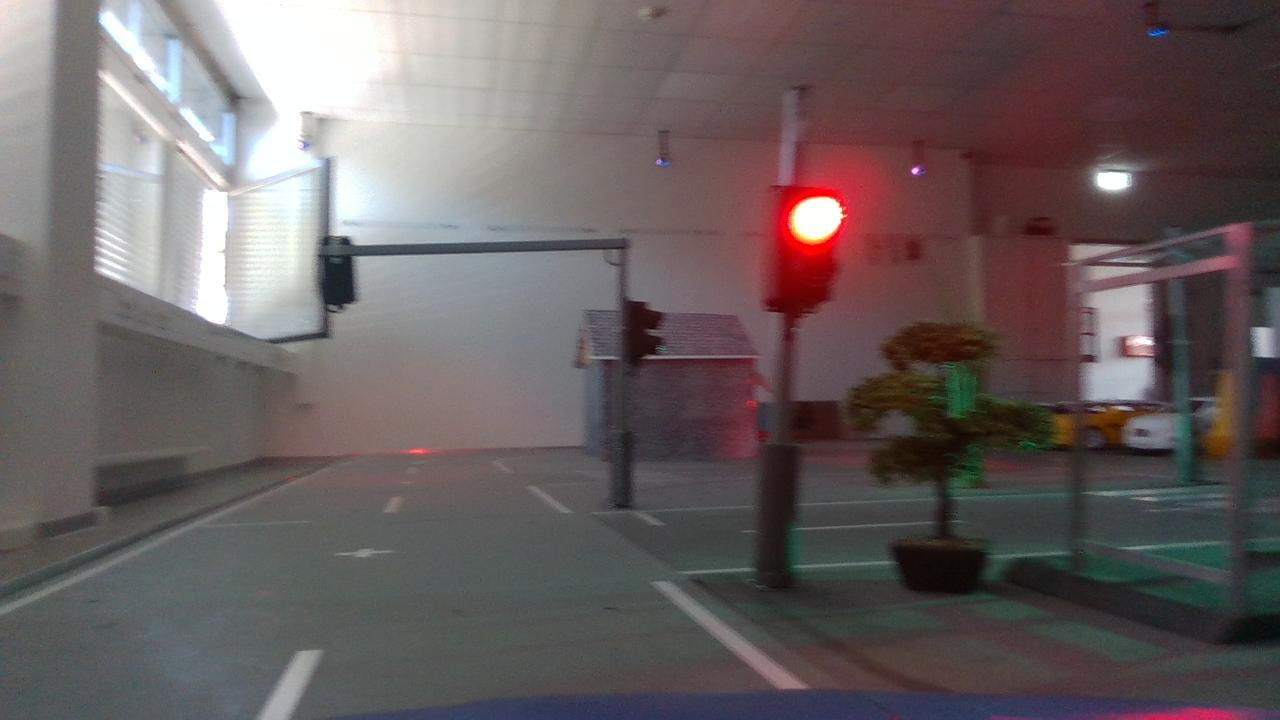traffic_light_red: (745, 172, 865, 333)
